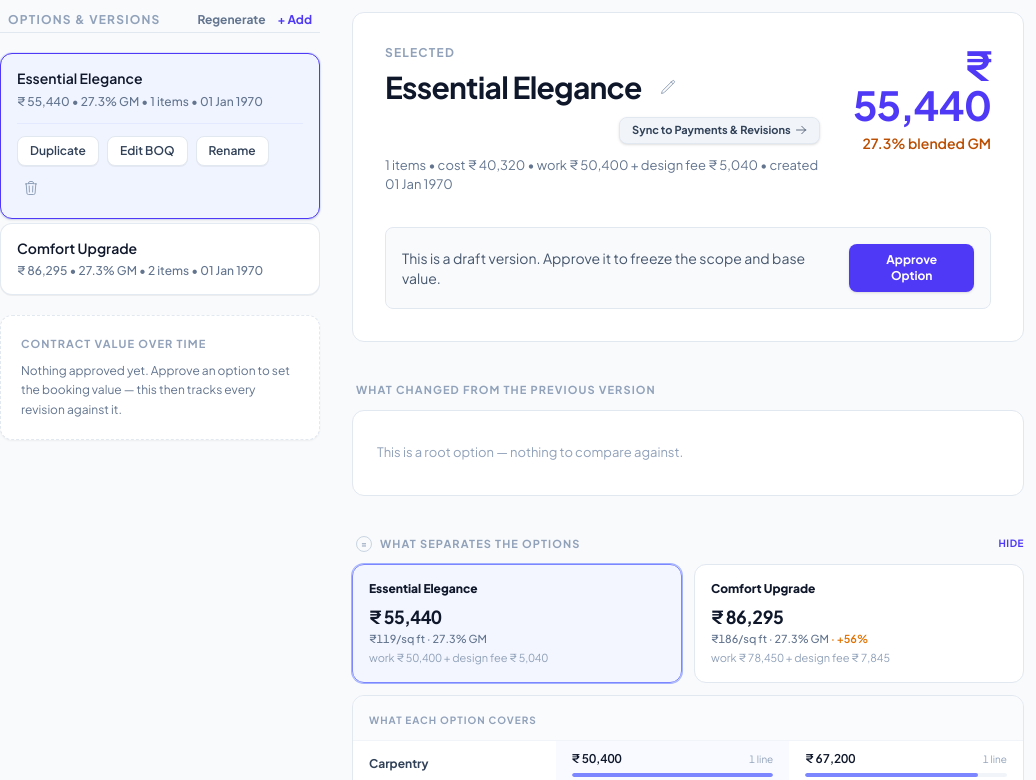
Test: Pricing & Tiers: renaming an option › the Rename button on the card renames it
Click the button "Rename" at [232, 150], box [196,136,269,166]
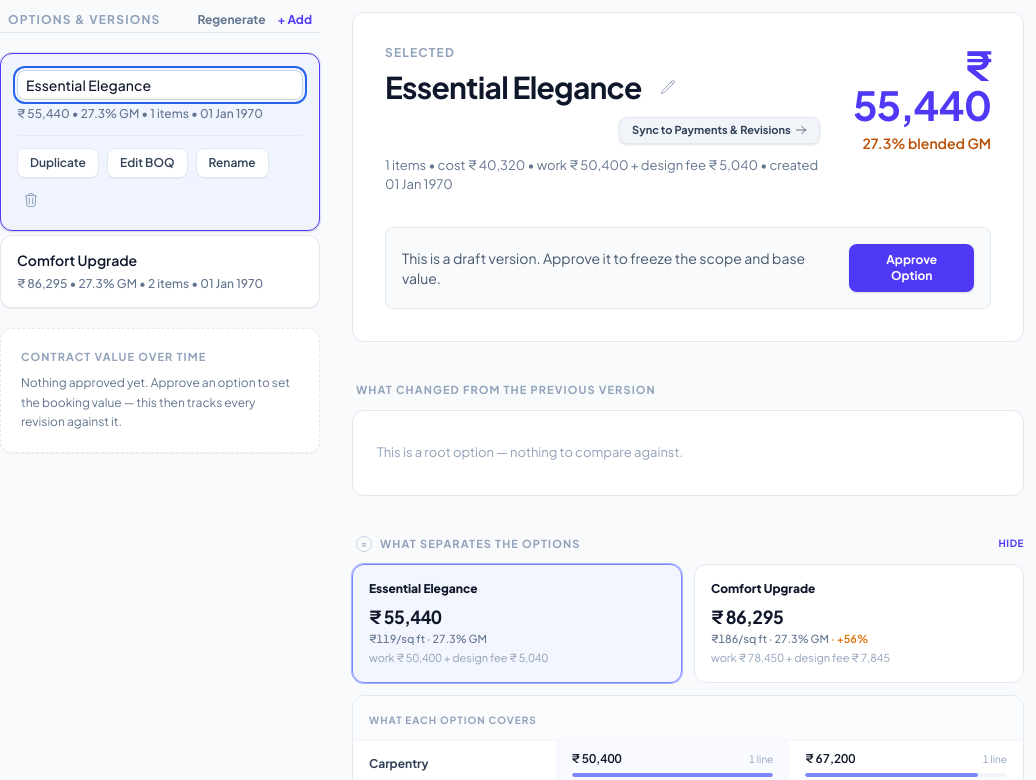
Replace the text in the field named "Option name" with "  Essential Plus  " at [160, 85], box [17,70,303,100]
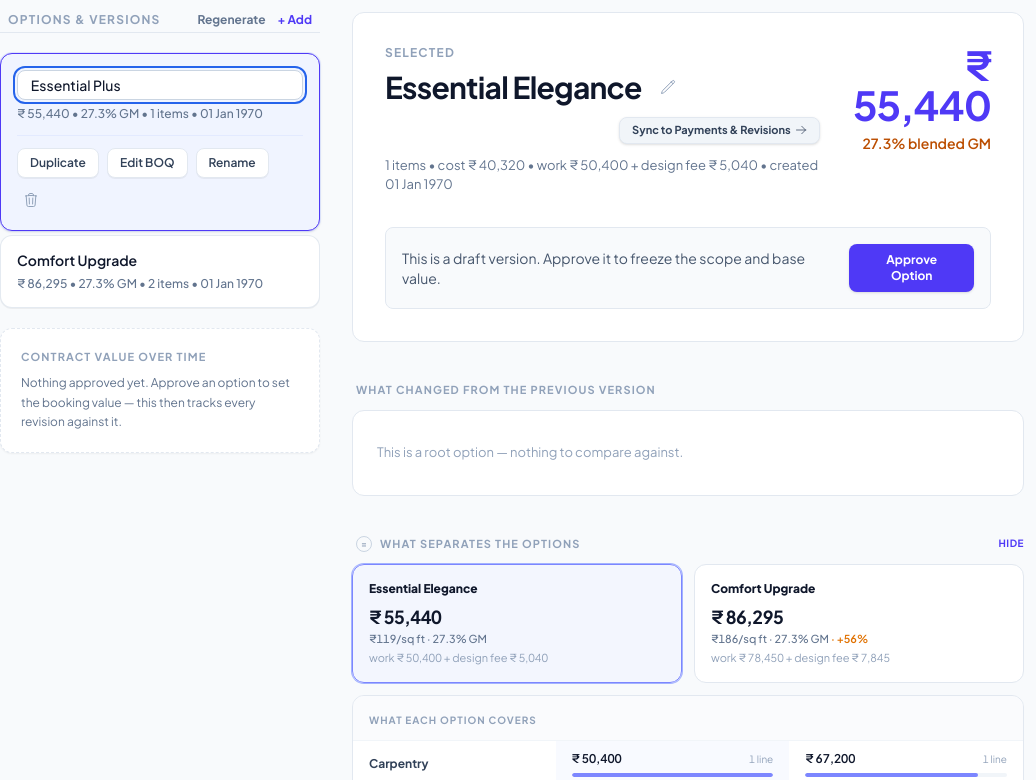
Press Enter in the field named "Option name", box [17,70,303,100]
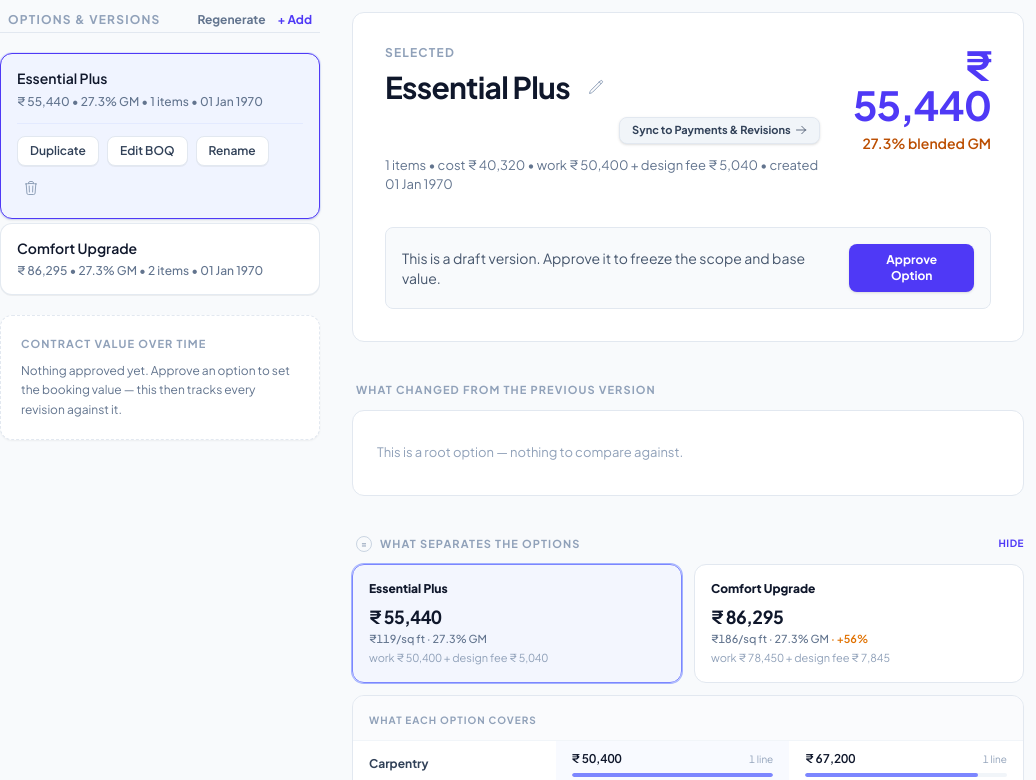
Check: the 1st text "Essential Plus" is shown, box [17,70,108,88]
